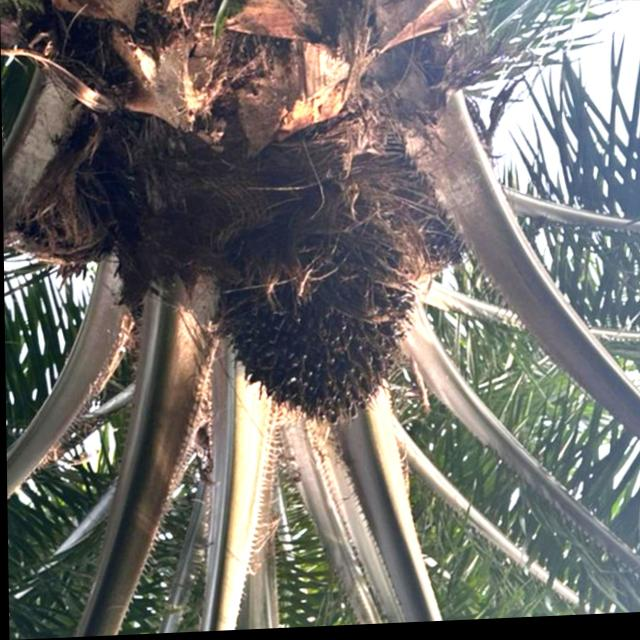almost: (220, 209, 415, 440)
